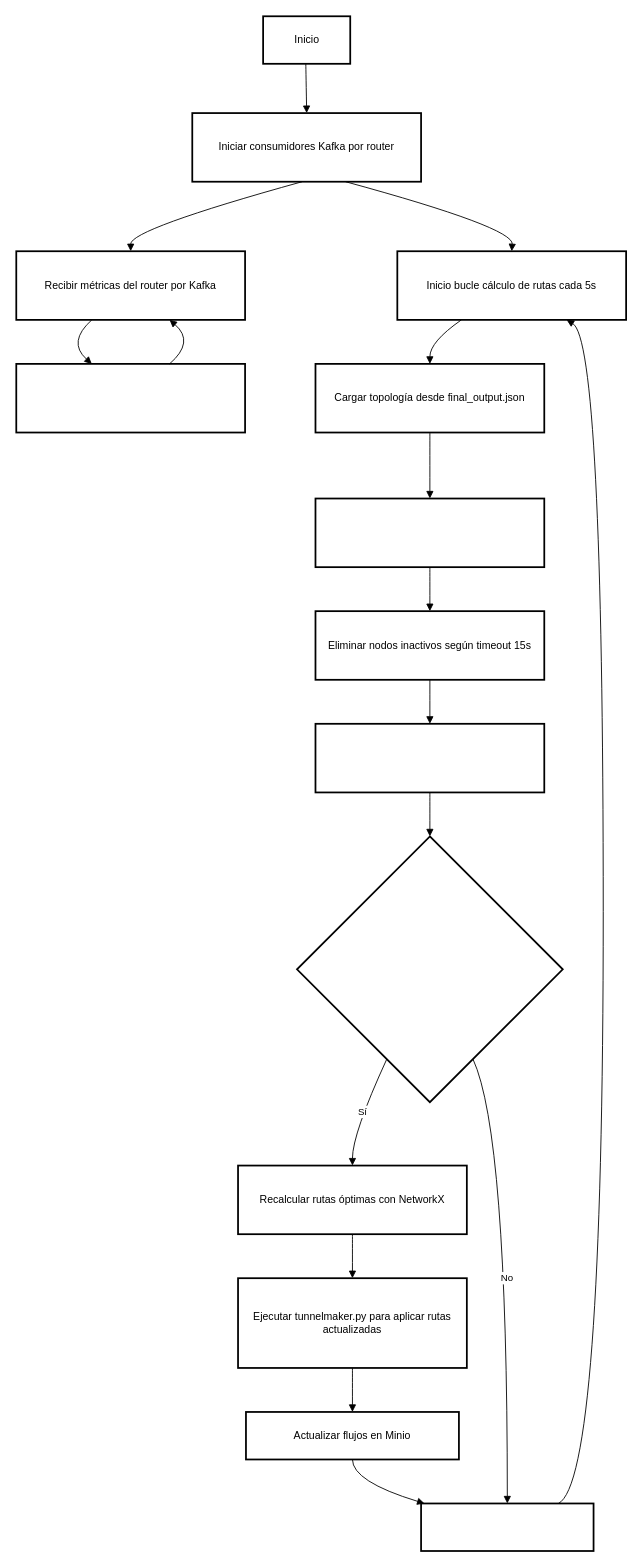
The diagram is 642 pixels wide and 1566 high, and some of its shapes have lost their labels. The shapes that lost their labels are listed below. From the top down, each one's centre as x and y in pixels, then its label:
[130,398]: Actualizar estado interno del router
[429,532]: Leer flujos actuales desde Minio
[429,757]: Actualizar costes en grafo con NetworkX
[429,969]: ¿Hay flujos sin ruta o afectados por routers caídos?
[507,1526]: Esperar 5 segundos
